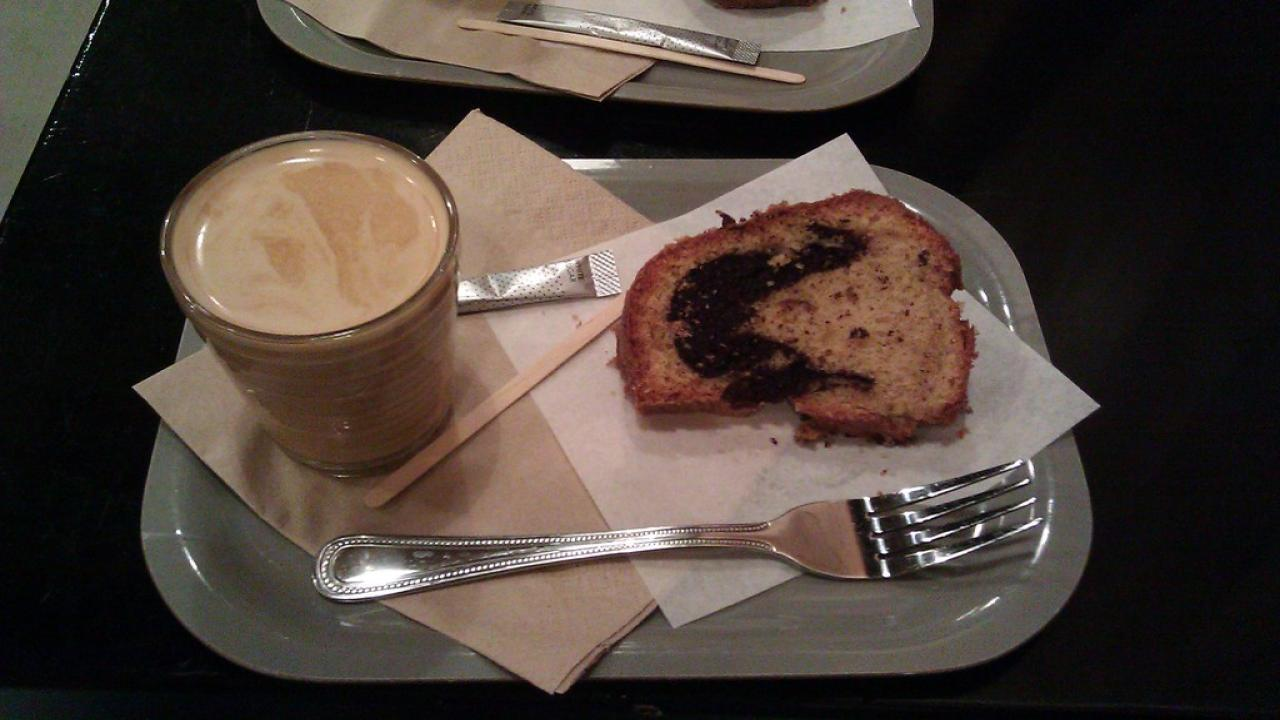fork: (311, 454, 1048, 603)
